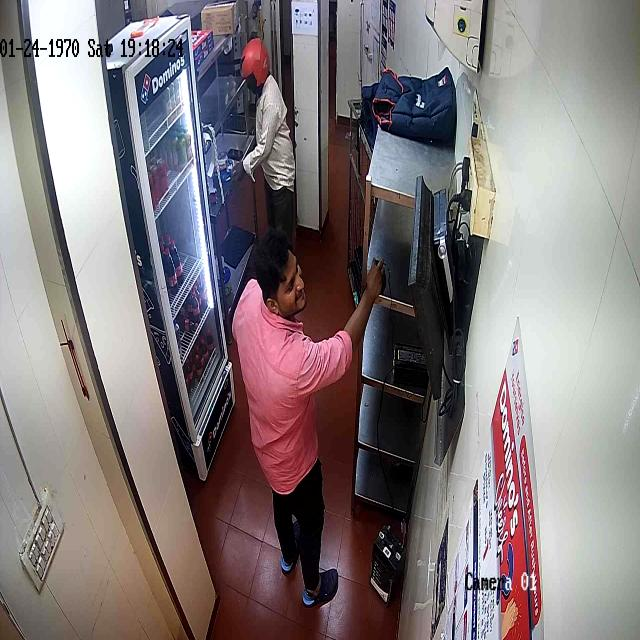helmet: (240, 38, 269, 96)
